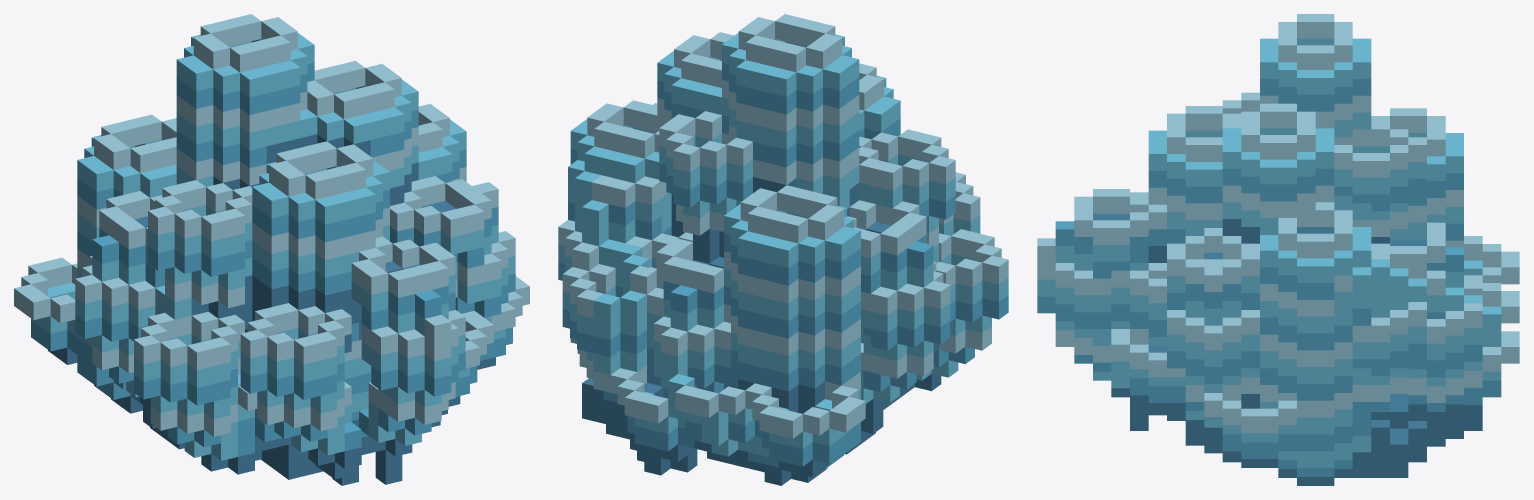
File: BlueTubularCoralLargeCluster-0.obj
3 renders of one model, left to right at view 1: azimuth 30°, elevation 25°; view 2: azimuth 150°, elevation 25°; view 3: azimuth 270°, elevation 25°, orthographic. The views are drawn at different scales.
Size of the model in its own units: 2.4 by 2.2 by 2.6.
Materials: 1 (1 with a texture image).
